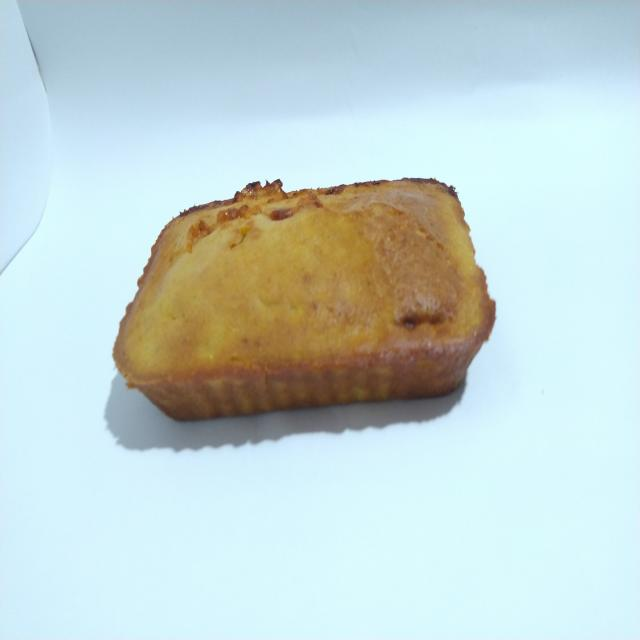Food: (106, 171, 504, 433)
